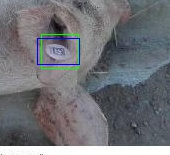text: (41, 34, 78, 68)
